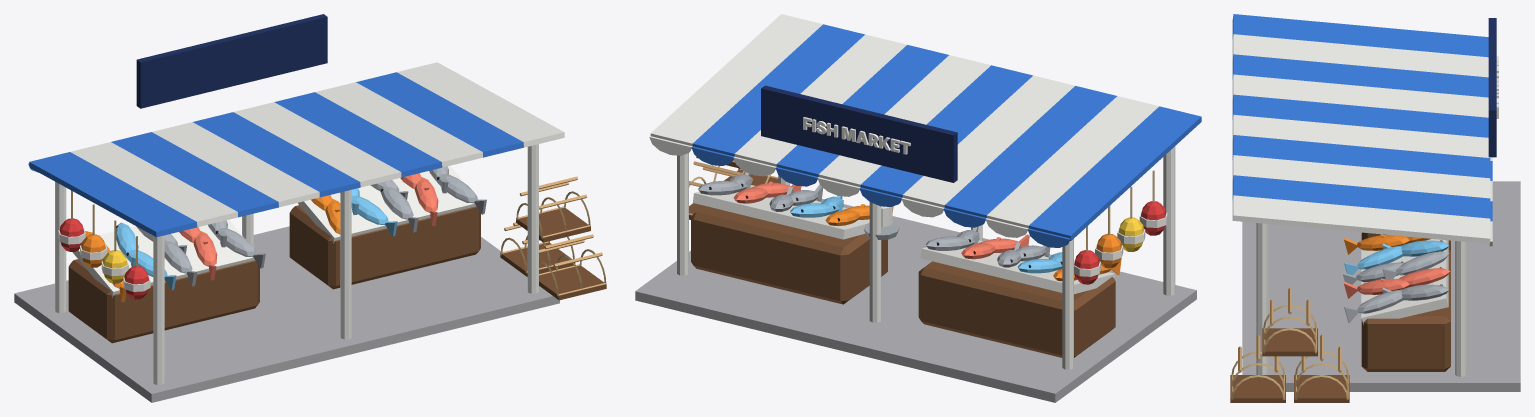
The model's file is FishMarket.fbx.
3 views of the same model, side by side, from view 1: azimuth 30°, elevation 25°; view 2: azimuth 150°, elevation 25°; view 3: azimuth 270°, elevation 25° (orthographic). The views are drawn at different scales.
Parts seen in each view (by area): view 1: FishMarket_White, FishMarket_Concrete, FishMarket_Blue, FishMarket_WoodDark, FishMarket_Navy, FishMarket_Metal, FishMarket_SkyBlue, FishMarket_Coral, FishMarket_WoodLight, FishMarket_Orange, FishMarket_Rope, FishMarket_Red; view 2: FishMarket_White, FishMarket_Blue, FishMarket_Concrete, FishMarket_WoodDark, FishMarket_Navy, FishMarket_Metal, FishMarket_Coral, FishMarket_Orange, FishMarket_SkyBlue, FishMarket_Red, FishMarket_Yellow; view 3: FishMarket_White, FishMarket_Blue, FishMarket_Concrete, FishMarket_WoodDark, FishMarket_Metal, FishMarket_Rope, FishMarket_SkyBlue, FishMarket_Coral, FishMarket_Navy, FishMarket_WoodLight, FishMarket_Orange.
Boxes of the visible parts, x1=… form: FishMarket_White: x1=55, y1=62, x2=564, y2=384; FishMarket_Concrete: x1=14, y1=226, x2=559, y2=402; FishMarket_Blue: x1=28, y1=72, x2=523, y2=237; FishMarket_WoodDark: x1=68, y1=205, x2=606, y2=343; FishMarket_Navy: x1=136, y1=14, x2=327, y2=108; FishMarket_Metal: x1=136, y1=166, x2=486, y2=286; FishMarket_SkyBlue: x1=116, y1=188, x2=397, y2=290; FishMarket_Coral: x1=179, y1=173, x2=438, y2=280; FishMarket_WoodLight: x1=500, y1=176, x2=605, y2=297; FishMarket_Orange: x1=81, y1=195, x2=340, y2=302; FishMarket_Rope: x1=71, y1=190, x2=606, y2=296; FishMarket_Red: x1=59, y1=218, x2=149, y2=299; FishMarket_White: x1=649, y1=14, x2=1175, y2=369; FishMarket_Blue: x1=691, y1=24, x2=1201, y2=247; FishMarket_Concrete: x1=635, y1=199, x2=1196, y2=402; FishMarket_WoodDark: x1=689, y1=156, x2=1115, y2=357; FishMarket_Navy: x1=761, y1=85, x2=957, y2=182; FishMarket_Metal: x1=698, y1=172, x2=1050, y2=267; FishMarket_Coral: x1=733, y1=181, x2=1029, y2=259; FishMarket_Orange: x1=825, y1=204, x2=1121, y2=281; FishMarket_SkyBlue: x1=790, y1=195, x2=1062, y2=273; FishMarket_Red: x1=1074, y1=201, x2=1166, y2=284; FishMarket_Yellow: x1=1118, y1=217, x2=1144, y2=251; FishMarket_White: x1=1232, y1=34, x2=1498, y2=376; FishMarket_Blue: x1=1232, y1=14, x2=1492, y2=221; FishMarket_Concrete: x1=1242, y1=181, x2=1520, y2=391; FishMarket_WoodDark: x1=1230, y1=232, x2=1450, y2=402; FishMarket_Metal: x1=1342, y1=251, x2=1449, y2=323; FishMarket_Rope: x1=1231, y1=305, x2=1348, y2=399; FishMarket_SkyBlue: x1=1344, y1=240, x2=1448, y2=275; FishMarket_Coral: x1=1344, y1=268, x2=1450, y2=298; FishMarket_Navy: x1=1488, y1=18, x2=1496, y2=157; FishMarket_WoodLight: x1=1231, y1=288, x2=1348, y2=400; FishMarket_Orange: x1=1344, y1=234, x2=1430, y2=254.
Bounding box in the file's own units: 26.45 × 12.6 × 14.6.
